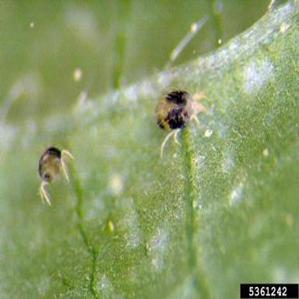spider mite: (139, 71, 221, 159), (29, 135, 101, 219)
